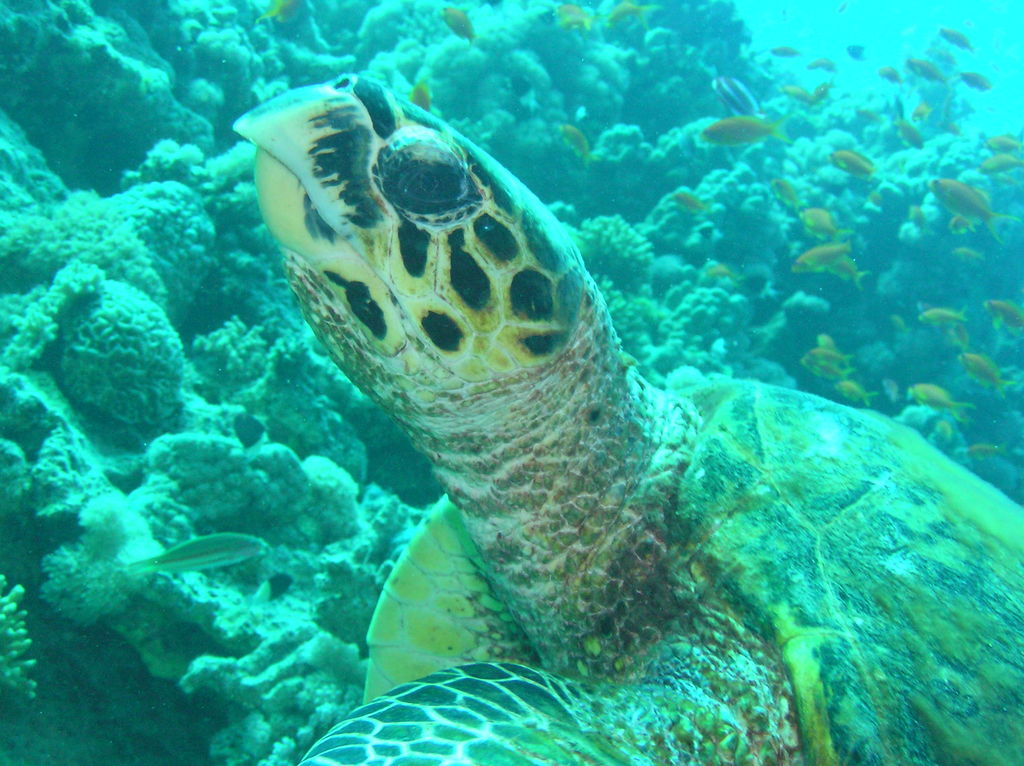Sea turtles: (226, 72, 1023, 765)
